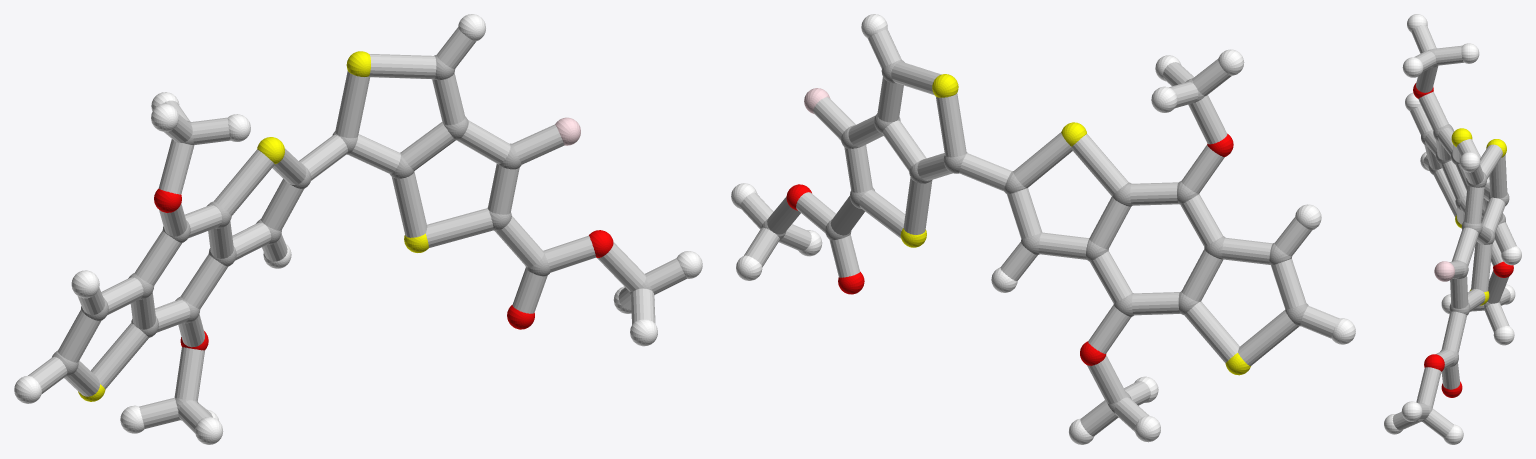
Rendered from Dimethoxy_Benzodithiophene_Phi_30_Theta_150_Methylcarbonyl_3_Fluoro_Thienothiophene.glb.
The picture shows the model from 3 angles, left to right: view 1: azimuth 30°, elevation 25°; view 2: azimuth 150°, elevation 25°; view 3: azimuth 270°, elevation 25°; orthographic projection. The views are drawn at different scales.
Visible parts, largest first — view 1: grp15205, grp8689, grp1, grp13395, grp7241; view 2: grp15205, grp8689, grp1, grp7241, grp13395; view 3: grp15205, grp8689, grp1, grp13395, grp7241, grp14843.
Part boxes in pixels (x1,y1,x2,y2): grp15205: (28, 27, 686, 433); grp8689: (14, 14, 702, 444); grp1: (52, 55, 652, 420); grp13395: (154, 188, 613, 350); grp7241: (78, 51, 428, 401); grp15205: (740, 29, 1339, 436); grp8689: (731, 14, 1355, 444); grp1: (761, 60, 1308, 413); grp7241: (900, 74, 1250, 375); grp13395: (786, 133, 1233, 365); grp15205: (1392, 25, 1516, 437); grp8689: (1384, 14, 1521, 444); grp1: (1418, 48, 1509, 421); grp13395: (1413, 83, 1513, 397); grp7241: (1451, 128, 1506, 305); grp14843: (1434, 261, 1454, 281).
Bounding box in the file's own units: 16.53 × 9.36 × 3.98.
